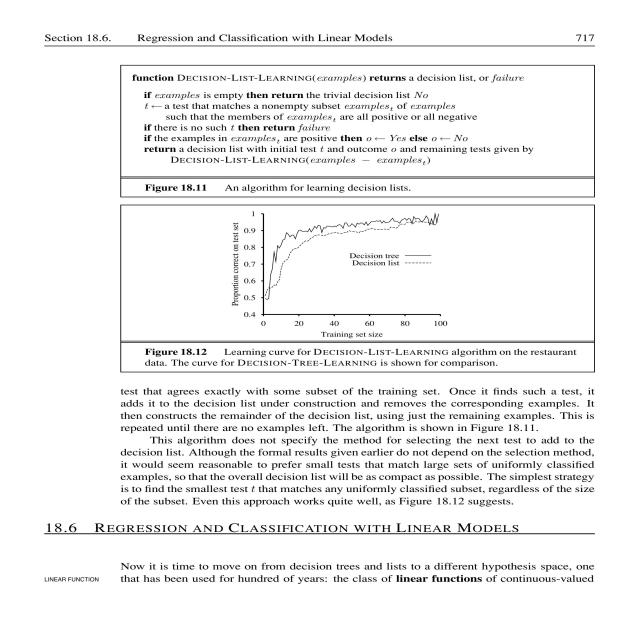diagram: (118, 202, 604, 381)
